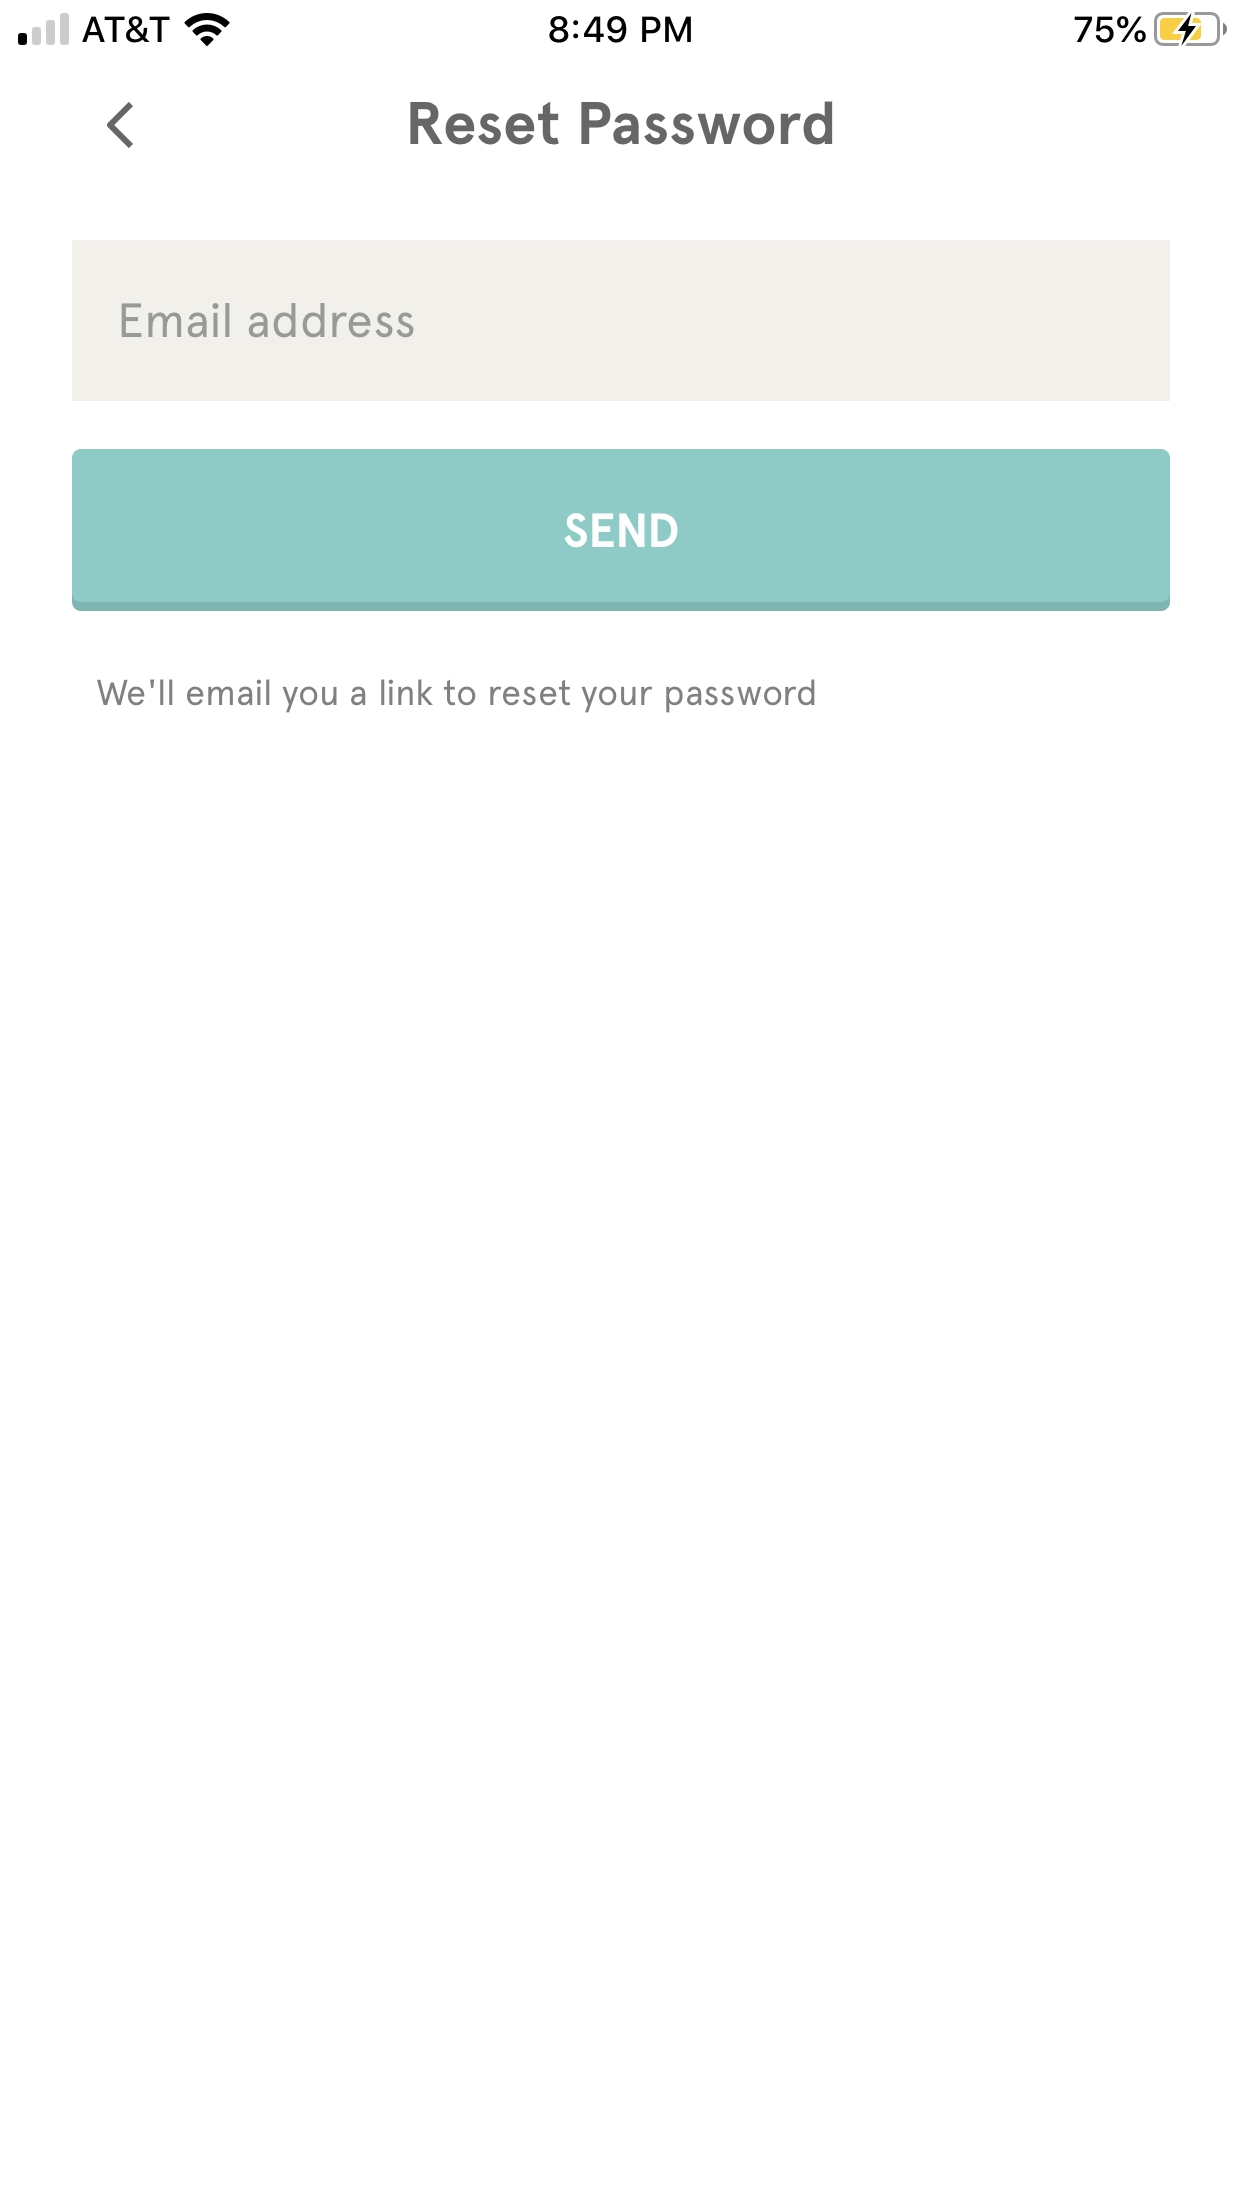EditText: (73, 241, 1171, 402)
Icon: (108, 103, 133, 149)
Text: (99, 679, 816, 714), (409, 102, 833, 146), (121, 303, 416, 340)
TextButton: (73, 450, 1171, 613)
UpperTaskBar: (2, 2, 1242, 50)
